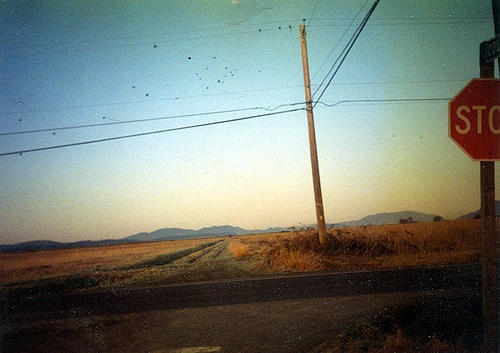bird: (17, 51, 442, 206), (205, 86, 414, 176), (218, 80, 439, 163), (199, 77, 400, 157), (145, 94, 294, 190), (213, 57, 429, 116), (132, 87, 266, 175), (52, 130, 111, 270), (258, 28, 500, 60), (153, 44, 311, 92), (278, 25, 500, 55), (289, 25, 500, 54)
